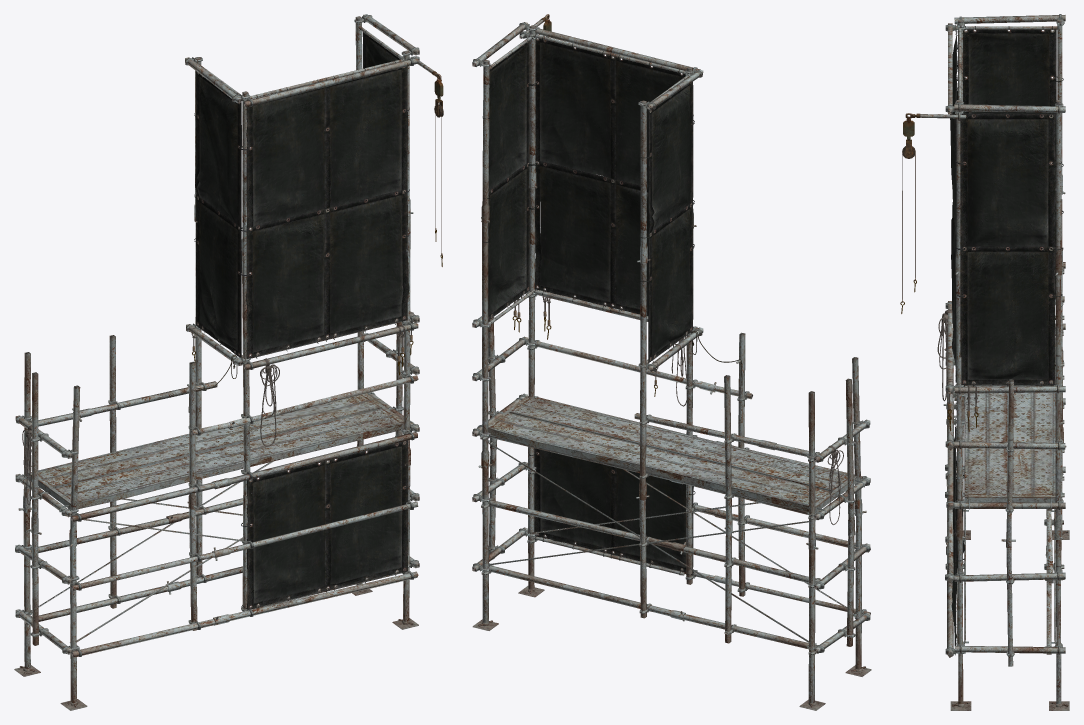
File: sm22_078_scaffold01a.fbx
The picture shows the model from 3 angles, left to right: view 1: azimuth 30°, elevation 25°; view 2: azimuth 150°, elevation 25°; view 3: azimuth 270°, elevation 25°; orthographic projection. The views are drawn at different scales.
Visible parts, largest first — view 1: LOD_1_Group_0_Sub_1__sm22_078_Scaffold01A_B_Mat, LOD_1_Group_0_Sub_2__sm22_078_Scaffold01A_C_Mat, LOD_1_Group_21_Sub_1__sm22_078_Scaffold01A_E_Mat; view 2: LOD_1_Group_0_Sub_1__sm22_078_Scaffold01A_B_Mat, LOD_1_Group_0_Sub_2__sm22_078_Scaffold01A_C_Mat; view 3: LOD_1_Group_0_Sub_1__sm22_078_Scaffold01A_B_Mat, LOD_1_Group_0_Sub_2__sm22_078_Scaffold01A_C_Mat, LOD_1_Group_0_Sub_4__sm22_078_Scaffold01A_A_Mat, LOD_1_Group_21_Sub_1__sm22_078_Scaffold01A_E_Mat.
Boxes of the visible parts, x1,y1,x2,y2 form: LOD_1_Group_0_Sub_1__sm22_078_Scaffold01A_B_Mat: (194,27,409,609); LOD_1_Group_0_Sub_2__sm22_078_Scaffold01A_C_Mat: (14,14,433,710); LOD_1_Group_21_Sub_1__sm22_078_Scaffold01A_E_Mat: (260,358,279,446); LOD_1_Group_0_Sub_1__sm22_078_Scaffold01A_B_Mat: (482,34,695,575); LOD_1_Group_0_Sub_2__sm22_078_Scaffold01A_C_Mat: (472,19,871,710); LOD_1_Group_0_Sub_1__sm22_078_Scaffold01A_B_Mat: (950,26,1063,645); LOD_1_Group_0_Sub_2__sm22_078_Scaffold01A_C_Mat: (920,14,1069,710); LOD_1_Group_0_Sub_4__sm22_078_Scaffold01A_A_Mat: (900,113,920,313); LOD_1_Group_21_Sub_1__sm22_078_Scaffold01A_E_Mat: (937,309,952,401).
Bounding box in the file's own units: 7.76 × 11.48 × 2.9.
